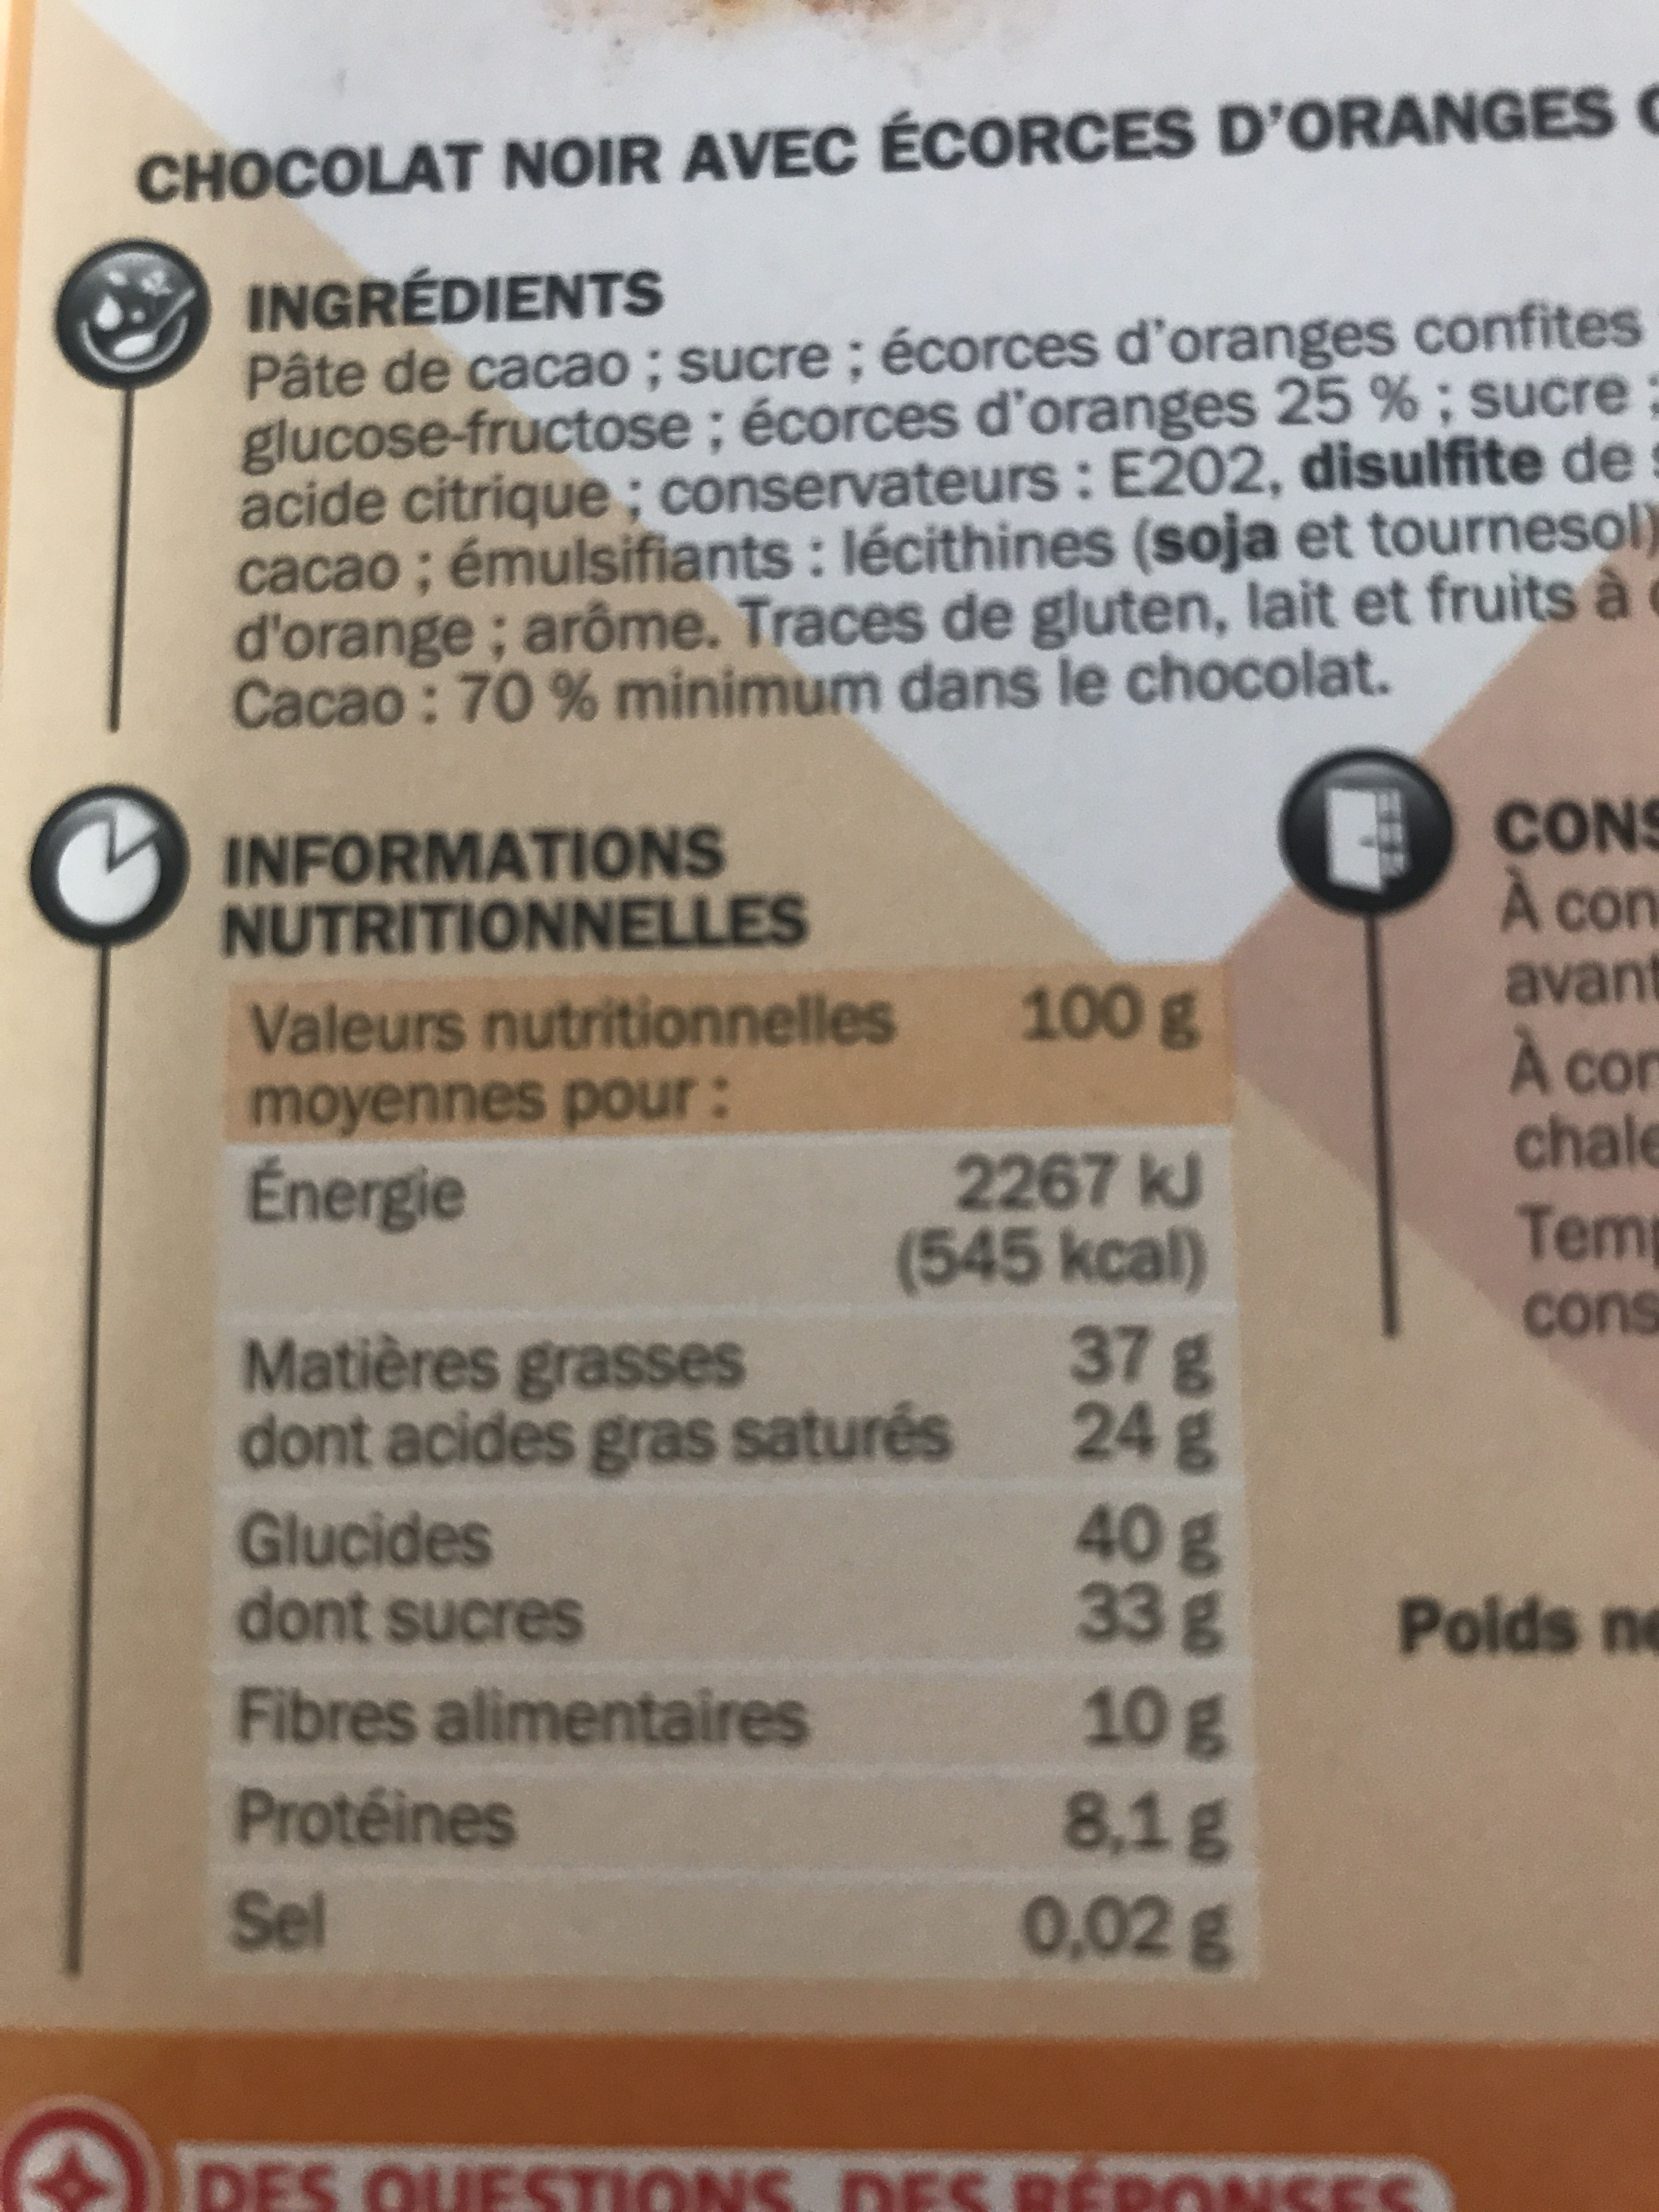column: (223, 995, 958, 1958), (992, 977, 1232, 1961)
table: (211, 960, 1269, 1993)
